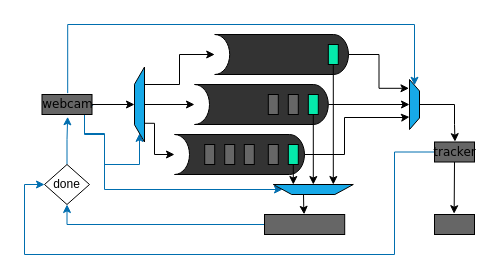
Some shapes in this 493 by 280 pixel diagram are drawn without their labels. Here are the shapes that lost their labels. From the top down, the centre of each, then its label:
At (304,224): "object detector".
At (454,224): "display".
